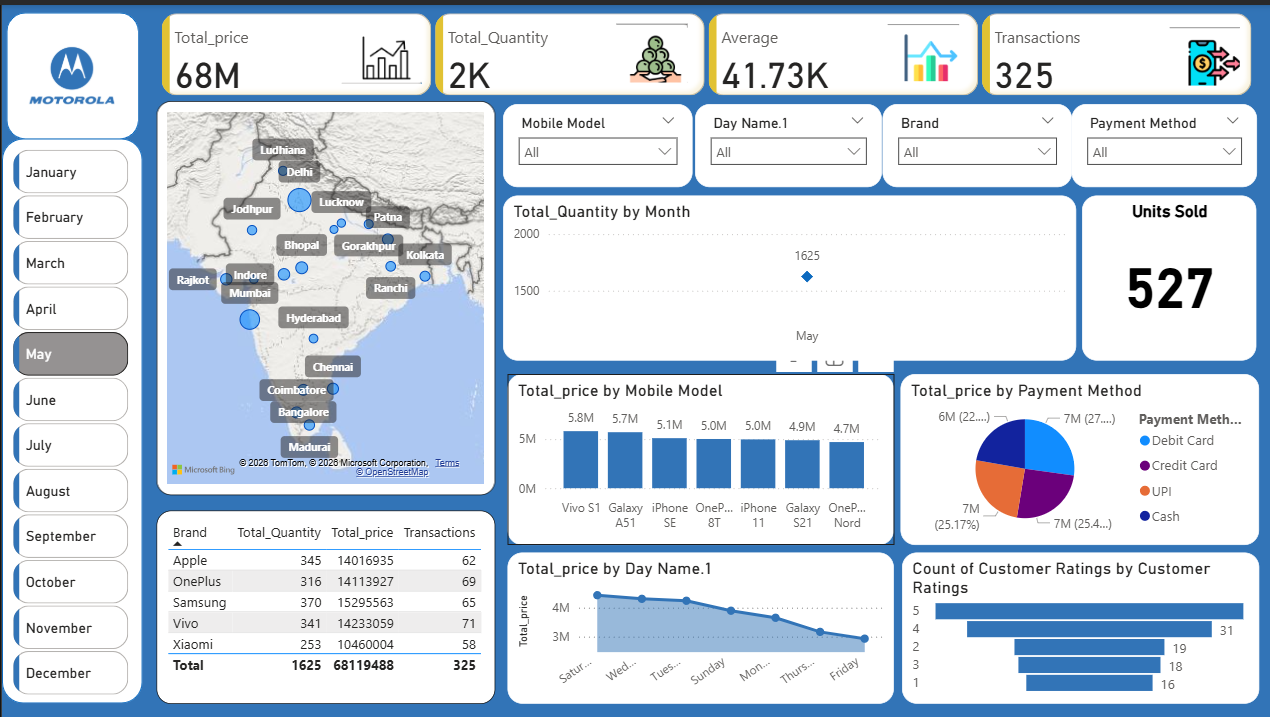

Layout of this report page (visuals, bound fields, positions):
{"tool":"powerbi","page":{"name":"Page 1","canvas":[1280,720],"ordinal":0},"visuals":[{"type":"shape","box":[4.1,6.9,133.6,128.1],"z":0},{"type":"image","box":[12.4,16.5,117.1,107.5],"z":1000},{"type":"shape","box":[0,135,141.9,570.3],"z":2000},{"type":"advancedSlicerVisual","fields":{"Values":["Sheet1.Date.Variation.Date Hierarchy.Month"]},"box":[5.5,140.5,126.7,564.8],"z":3000},{"type":"cardVisual","fields":{"Data":["Sales_data.Total_price","Sales_data.Total_Quantity","Sales_data.Average","Sales_data.Total_transactions"]},"box":[156,3,1112.9,93.9],"z":4000},{"type":"map","fields":{"Category":["Sales_data.City"],"Size":["Sales_data.Total_price"]},"box":[156,96.9,342.2,398.2],"z":5000},{"type":"clusteredColumnChart","fields":{"Category":["Sales_data.Mobile Model"],"Y":["Sales_data.Total_price"]},"box":[510.3,372.5,390,172.6],"z":6000},{"type":"pieChart","fields":{"Category":["Sales_data.Payment Method"],"Y":["Sales_data.Total_price"]},"box":[907,372.5,361.9,172.6],"z":7000},{"type":"funnel","fields":{"Category":["Sales_data.Customer Ratings"],"Y":["CountNonNull(Sales_data.Customer Ratings)"]},"box":[907.8,552.4,360.9,152.9],"z":8000},{"type":"areaChart","fields":{"Category":["Sales_data.Day Name.1"],"Y":["Sales_data.Total_price"]},"box":[509.7,552.4,389.9,152.9],"z":9000},{"type":"tableEx","fields":{"Values":["Sales_data.Brand","Sales_data.Total_Quantity","Sales_data.Total_price","Sales_data.Transactions"]},"box":[156,510.3,342.2,195.3],"z":10000},{"type":"slicer","fields":{"Values":["Sales_data.Payment Method"]},"box":[1080,100.6,187.4,84],"z":11000},{"type":"slicer","fields":{"Values":["Sales_data.Mobile Model"]},"box":[505.6,100.6,191.5,84],"z":12000},{"type":"slicer","fields":{"Values":["Sales_data.Day Name.1"]},"box":[699.8,100.6,188.7,84],"z":13000},{"type":"slicer","fields":{"Values":["Sales_data.Brand"]},"box":[888.5,100.6,191.5,84],"z":14000},{"type":"kpi","title":"Units Sold","fields":{"Indicator":["Sum(Sales_data.Units Sold)"],"TrendLine":["Sales_data.Date.Variation.Date Hierarchy.Year"]},"box":[1089.7,192.9,176,166.7],"z":15000},{"type":"lineChart","fields":{"Category":["Sales_data.Date.Variation.Date Hierarchy.Month","Sales_data.Date.Variation.Date Hierarchy.Day"],"Y":["Sales_data.Total_Quantity"]},"box":[505.6,192.9,578.6,166.7],"z":16000},{"type":"image","box":[337.7,0,90.9,92.4],"z":17000},{"type":"image","box":[1173.7,16.5,81.3,70.3],"z":18000},{"type":"image","box":[888.5,6.9,82.7,81.3],"z":19000},{"type":"image","box":[614.4,6.9,82.7,82.7],"z":20000}]}

Visuals, with their boxes in screenshot pixels (x1, y1, x2, y2), scaled from the page's 1280x720 canvas onto the 1270x717 screenshot:
shape: detection(4, 7, 137, 134)
image: detection(12, 16, 128, 123)
shape: detection(0, 134, 141, 702)
advancedSlicerVisual - Sheet1.Date.Variation.Date Hierarchy.Month: detection(5, 140, 131, 702)
cardVisual - Sales_data.Total_price x Sales_data.Total_Quantity: detection(155, 3, 1259, 96)
map - Sales_data.City x Sales_data.Total_price: detection(155, 96, 494, 493)
clusteredColumnChart - Sales_data.Mobile Model x Sales_data.Total_price: detection(506, 371, 893, 543)
pieChart - Sales_data.Payment Method x Sales_data.Total_price: detection(900, 371, 1259, 543)
funnel - Sales_data.Customer Ratings x CountNonNull(Sales_data.Customer Ratings): detection(901, 550, 1259, 702)
areaChart - Sales_data.Day Name.1 x Sales_data.Total_price: detection(506, 550, 893, 702)
tableEx - Sales_data.Brand x Sales_data.Total_Quantity: detection(155, 508, 494, 703)
slicer - Sales_data.Payment Method: detection(1072, 100, 1257, 184)
slicer - Sales_data.Mobile Model: detection(502, 100, 692, 184)
slicer - Sales_data.Day Name.1: detection(694, 100, 882, 184)
slicer - Sales_data.Brand: detection(882, 100, 1072, 184)
"Units Sold" kpi: detection(1081, 192, 1256, 358)
lineChart - Sales_data.Date.Variation.Date Hierarchy.Month x Sales_data.Date.Variation.Date Hierarchy.Day: detection(502, 192, 1076, 358)
image: detection(335, 0, 425, 92)
image: detection(1165, 16, 1245, 86)
image: detection(882, 7, 964, 88)
image: detection(610, 7, 692, 89)
